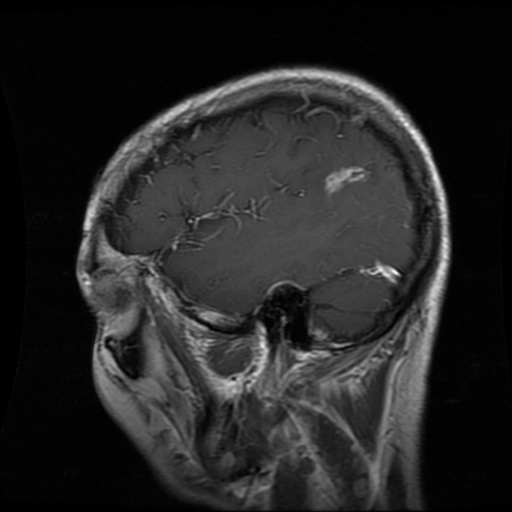glioma: (325, 166, 372, 201)
